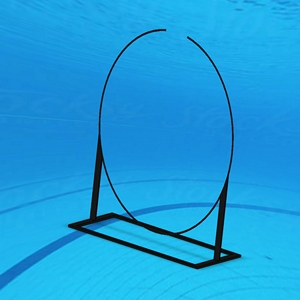circle: (67, 27, 245, 271)
